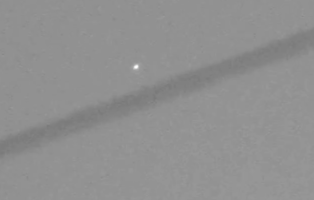Target: (134, 65, 139, 69)
